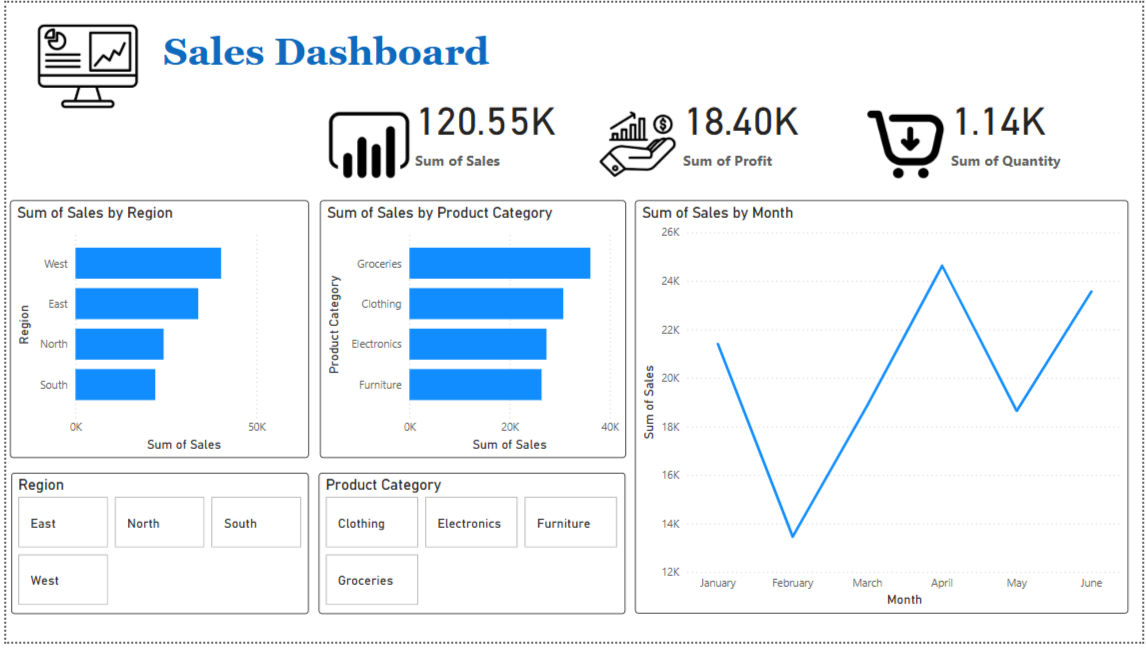

The page's visual inventory and layout, read from the dashboard file:
{"tool":"powerbi","page":{"name":"Page 1","canvas":[1280,720],"ordinal":0},"visuals":[{"type":"cardVisual","fields":{"Data":["Sum(Sheet1.Sales)","Sum(Sheet1.Profit)","Sum(Sheet1.Quantity)"]},"box":[354.1,102.3,910.1,110.4],"z":0},{"type":"image","box":[26.9,0,130.6,142.7],"z":1000},{"type":"textbox","box":[172.3,25.6,386.4,67.3],"z":2000},{"type":"barChart","fields":{"Category":["Sheet1.Region"],"Y":["Sum(Sheet1.Sales)"]},"box":[4,222.1,336.6,290.8],"z":3000},{"type":"barChart","fields":{"Category":["Sheet1.Product Category"],"Y":["Sum(Sheet1.Sales)"]},"box":[354.1,222.1,344.6,290.8],"z":4000},{"type":"lineChart","fields":{"Category":["Sheet1.S.Variation.Date Hierarchy.Month"],"Y":["Sum(Sheet1.Sales)"]},"box":[708.1,222.1,556,465.8],"z":5000},{"type":"advancedSlicerVisual","fields":{"Values":["Sheet1.Region"]},"box":[5.4,529.1,335.2,158.9],"z":6000},{"type":"advancedSlicerVisual","fields":{"Values":["Sheet1.Product Category"]},"box":[352.7,529.1,346,158.9],"z":7000}]}

Visuals, with their boxes in screenshot pixels (x1, y1, x2, y2), scaled from the page's 1280x720 canvas onto the 1146x648 screenshot:
cardVisual - Sum(Sheet1.Sales) x Sum(Sheet1.Profit): (x1=317, y1=92, x2=1132, y2=191)
image: (x1=24, y1=0, x2=141, y2=128)
textbox: (x1=154, y1=23, x2=500, y2=84)
barChart - Sheet1.Region x Sum(Sheet1.Sales): (x1=4, y1=200, x2=305, y2=462)
barChart - Sheet1.Product Category x Sum(Sheet1.Sales): (x1=317, y1=200, x2=626, y2=462)
lineChart - Sheet1.S.Variation.Date Hierarchy.Month x Sum(Sheet1.Sales): (x1=634, y1=200, x2=1132, y2=619)
advancedSlicerVisual - Sheet1.Region: (x1=5, y1=476, x2=305, y2=619)
advancedSlicerVisual - Sheet1.Product Category: (x1=316, y1=476, x2=626, y2=619)
